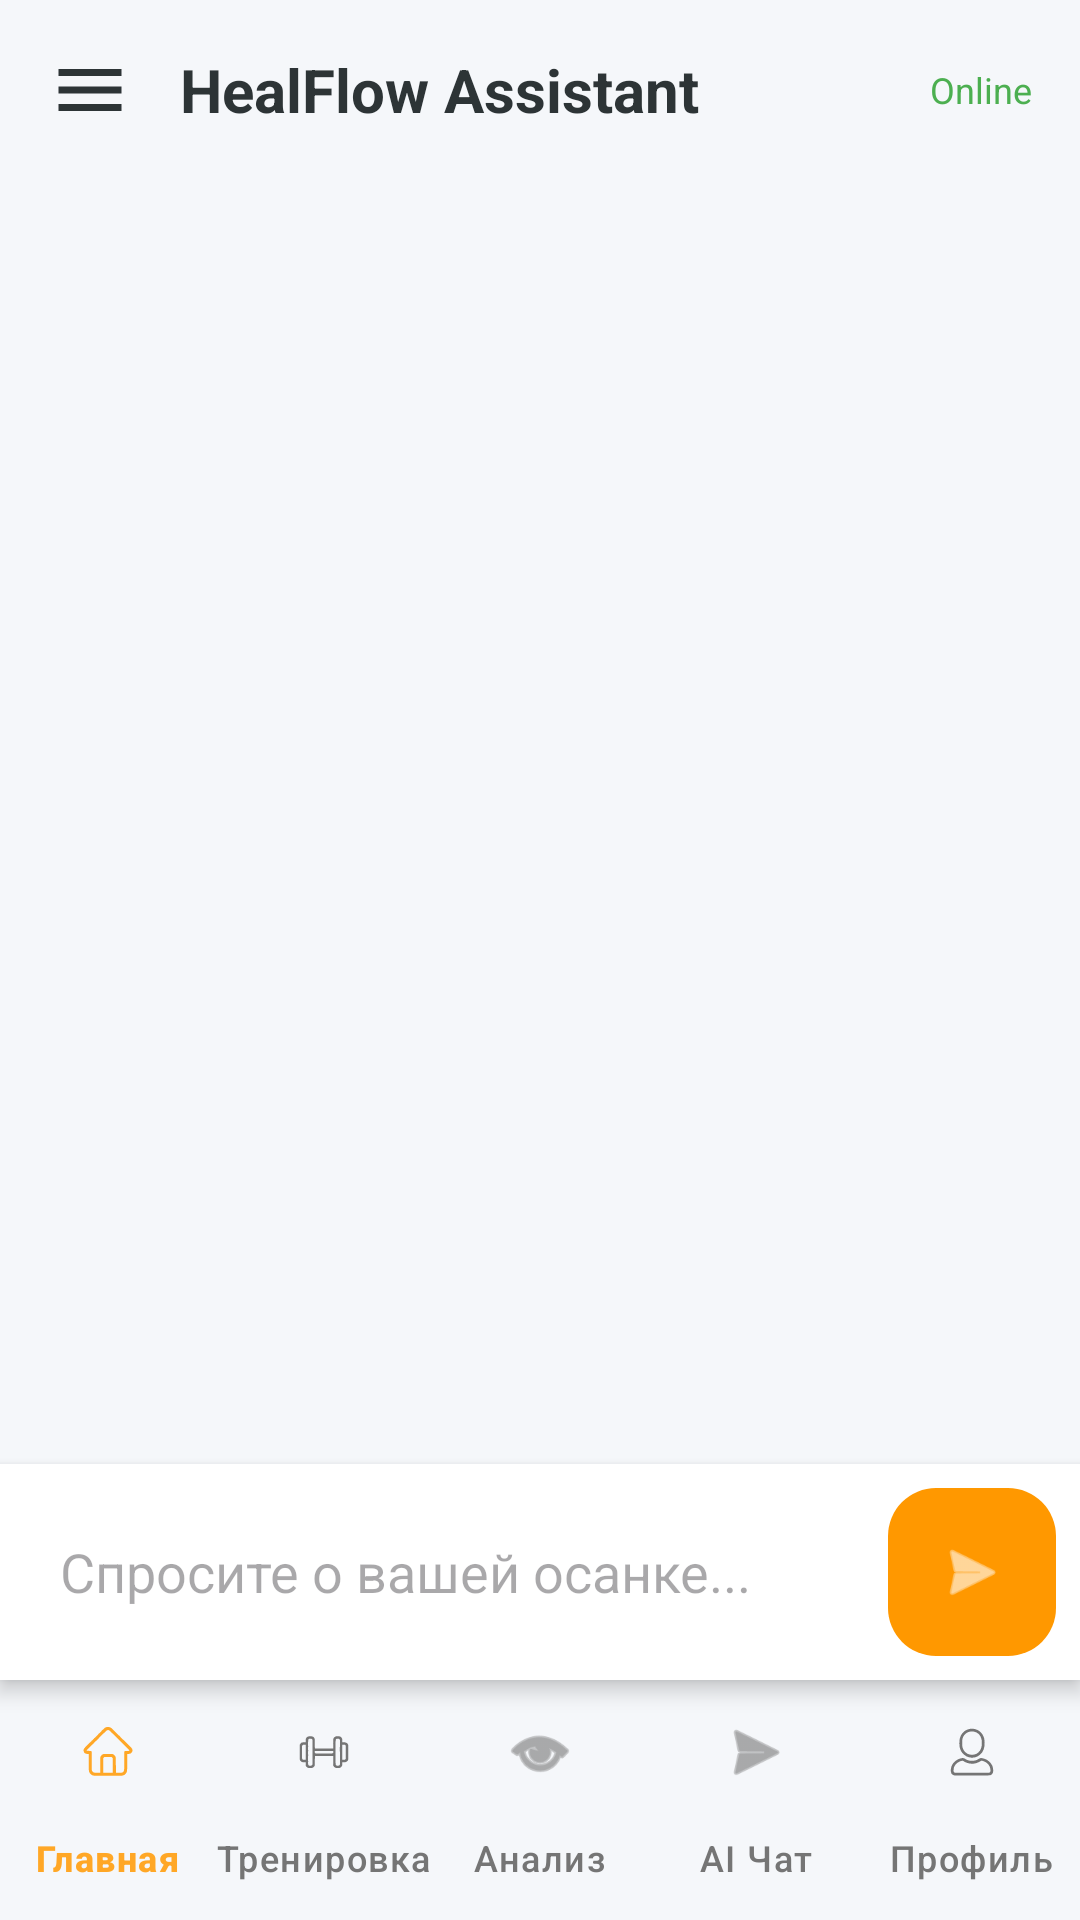

Icons on this 1080x1920 Android screen, each with the point to tap as (x=x, y=y):
hamburger: (x=90, y=90)
send: (x=972, y=1572)
